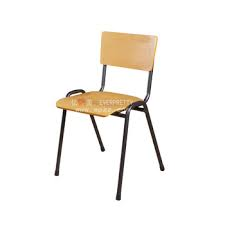tiyarina: (47, 27, 170, 205)
